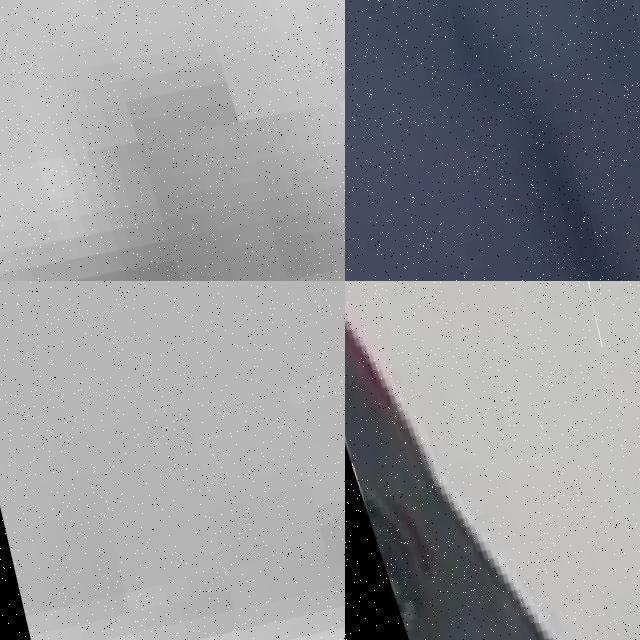drone: (345, 281, 640, 640), (0, 0, 345, 281)
